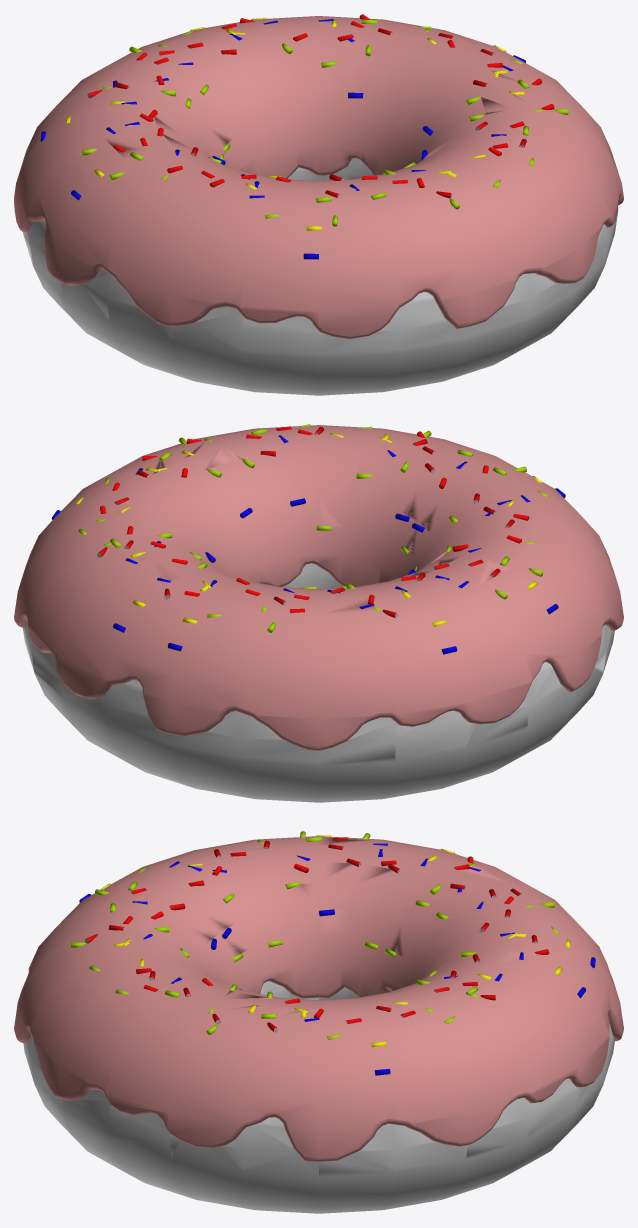
The model's file is donut2.dae.
3 renders of one model, top to bottom at view 1: azimuth 30°, elevation 25°; view 2: azimuth 150°, elevation 25°; view 3: azimuth 270°, elevation 25°, orthographic.
Visible parts, largest first — view 1: group_0, group_0_002; view 2: group_0, group_0_002; view 3: group_0, group_0_002.
Boxes of the visible parts, <box> form: group_0: <box>14,16,623,338</box>; group_0_002: <box>23,158,618,395</box>; group_0: <box>14,425,623,750</box>; group_0_002: <box>22,563,614,802</box>; group_0: <box>14,836,623,1161</box>; group_0_002: <box>23,981,614,1213</box>.
Bounding box in the file's own units: 0.131 × 0.131 × 0.0465.
